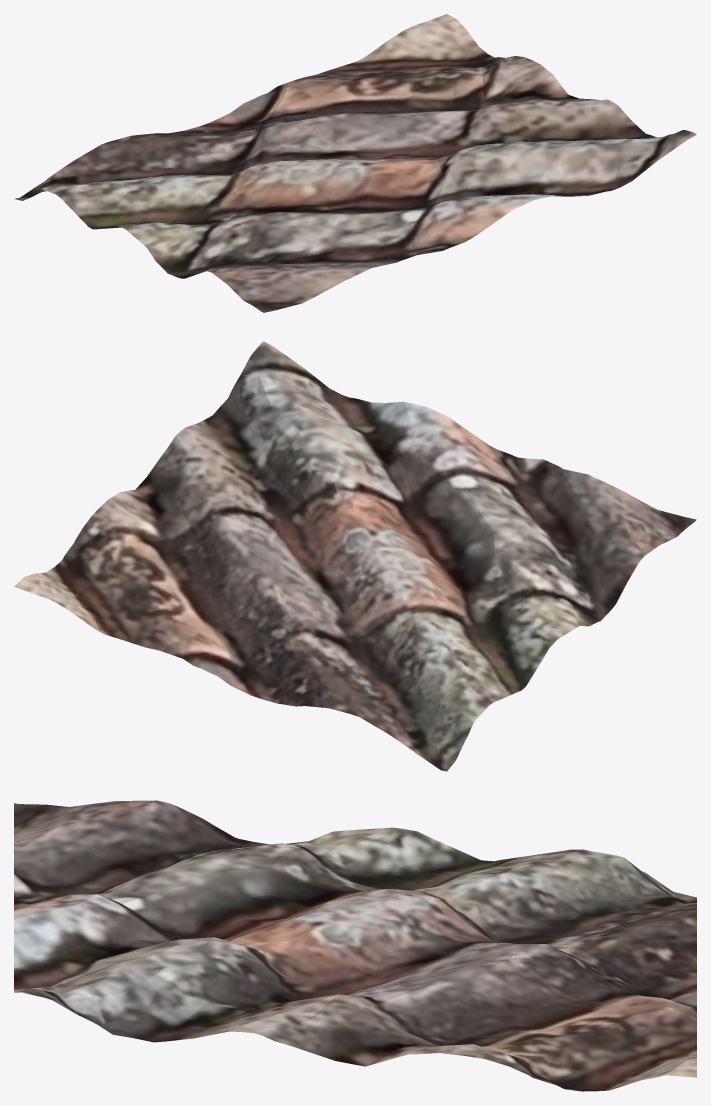
3 renders of one model, top to bottom at view 1: azimuth 30°, elevation 25°; view 2: azimuth 150°, elevation 25°; view 3: azimuth 270°, elevation 25°, orthographic. The views are drawn at different scales.
Size of the model in its own units: 0.8374 by 0.2623 by 0.8373.
3 materials, 3 textured.
